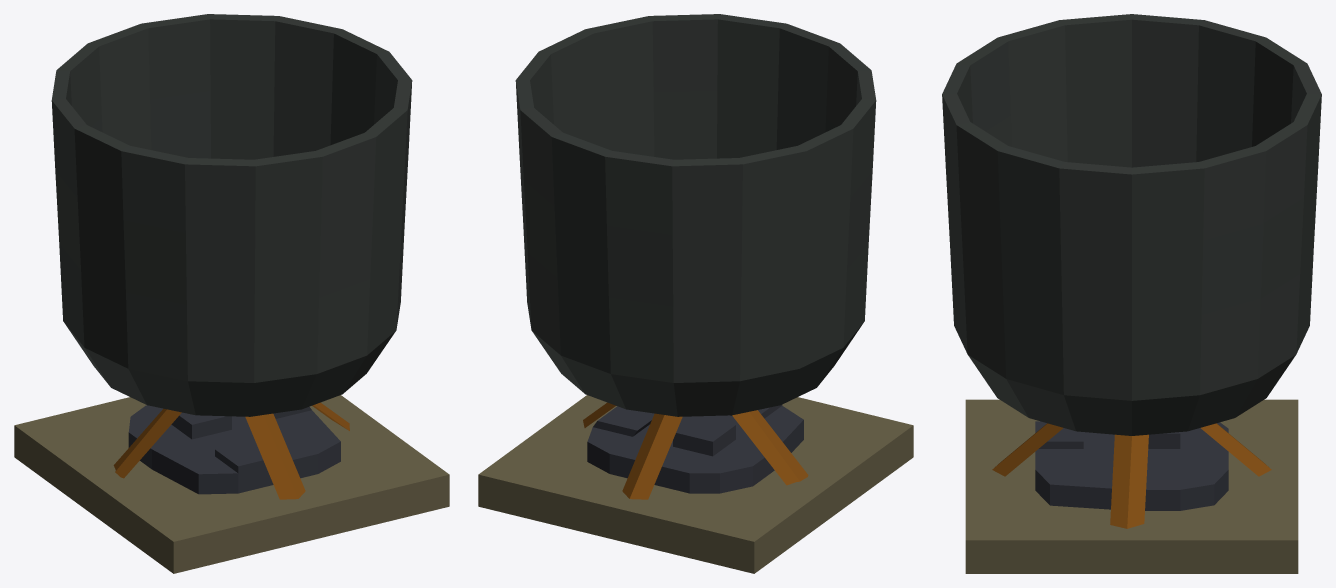
File: POT.fbx
3 renders of one model, left to right at view 1: azimuth 30°, elevation 25°; view 2: azimuth 150°, elevation 25°; view 3: azimuth 270°, elevation 25°, orthographic. The views are drawn at different scales.
Parts seen in each view (by area): view 1: Cylinder, Cube, Cylinder.002, Cylinder.001; view 2: Cylinder, Cube, Cylinder.002, Cylinder.001; view 3: Cylinder, Cube, Cylinder.002, Cylinder.001.
Boxes of the visible parts, <box> form: Cylinder: <box>51,14,412,416</box>; Cube: <box>14,395,449,573</box>; Cylinder.002: <box>128,405,340,494</box>; Cylinder.001: <box>113,402,349,499</box>; Cylinder: <box>515,14,876,416</box>; Cube: <box>478,395,913,573</box>; Cylinder.002: <box>587,405,803,493</box>; Cylinder.001: <box>583,402,808,499</box>; Cylinder: <box>942,14,1321,435</box>; Cube: <box>965,399,1298,573</box>; Cylinder.002: <box>1035,421,1228,510</box>; Cylinder.001: <box>992,423,1271,528</box>.
Size of the model in its own units: 228 by 272 by 228.
